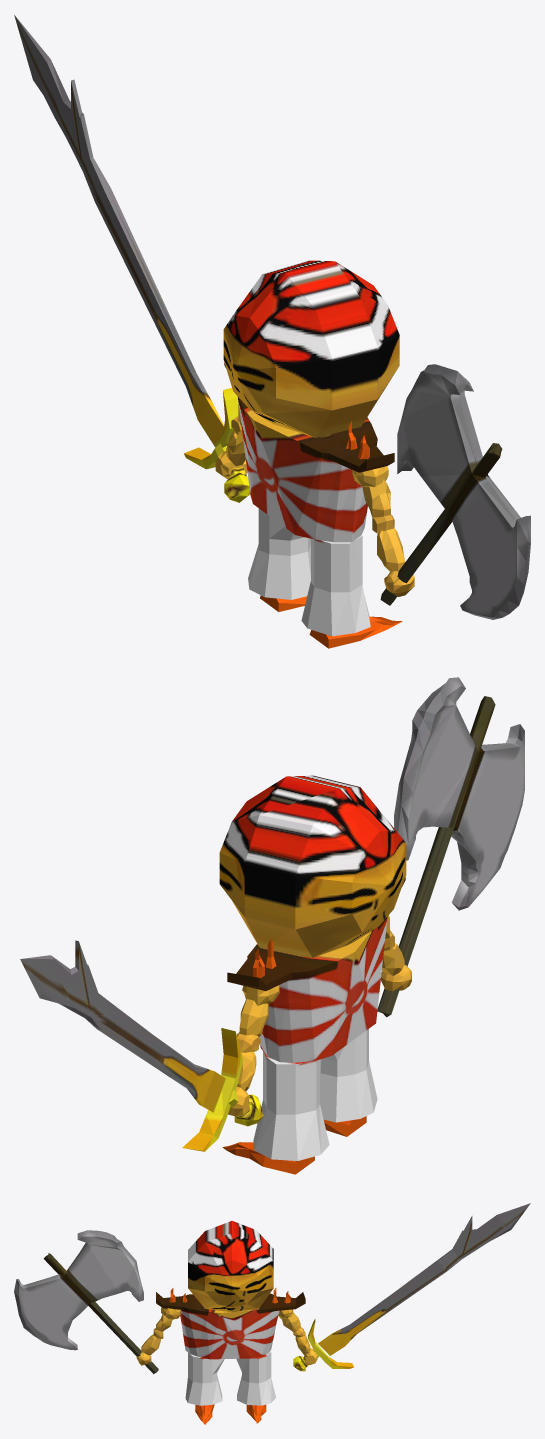
The model's file is Yoyo.glb.
3 views of the same model, one above another, from view 1: azimuth 30°, elevation 25°; view 2: azimuth 150°, elevation 25°; view 3: azimuth 270°, elevation 25° (orthographic). The views are drawn at different scales.
Parts seen in each view (by area): view 1: Yoyo; view 2: Yoyo; view 3: Yoyo.
Part boxes in pixels (x1,y1,x2,y2): Yoyo: (14,15,530,648); Yoyo: (20,677,524,1174); Yoyo: (14,1203,530,1424).
Bounding box in the file's own units: 46.41 × 111 × 255.
1 material, 1 textured.
